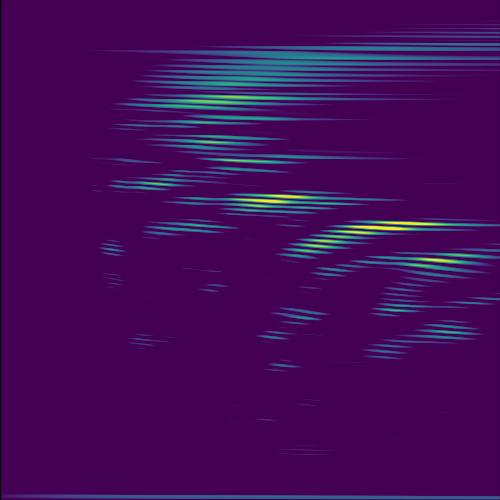semblance: (290, 216, 463, 256), (385, 247, 488, 276), (227, 188, 344, 213)
